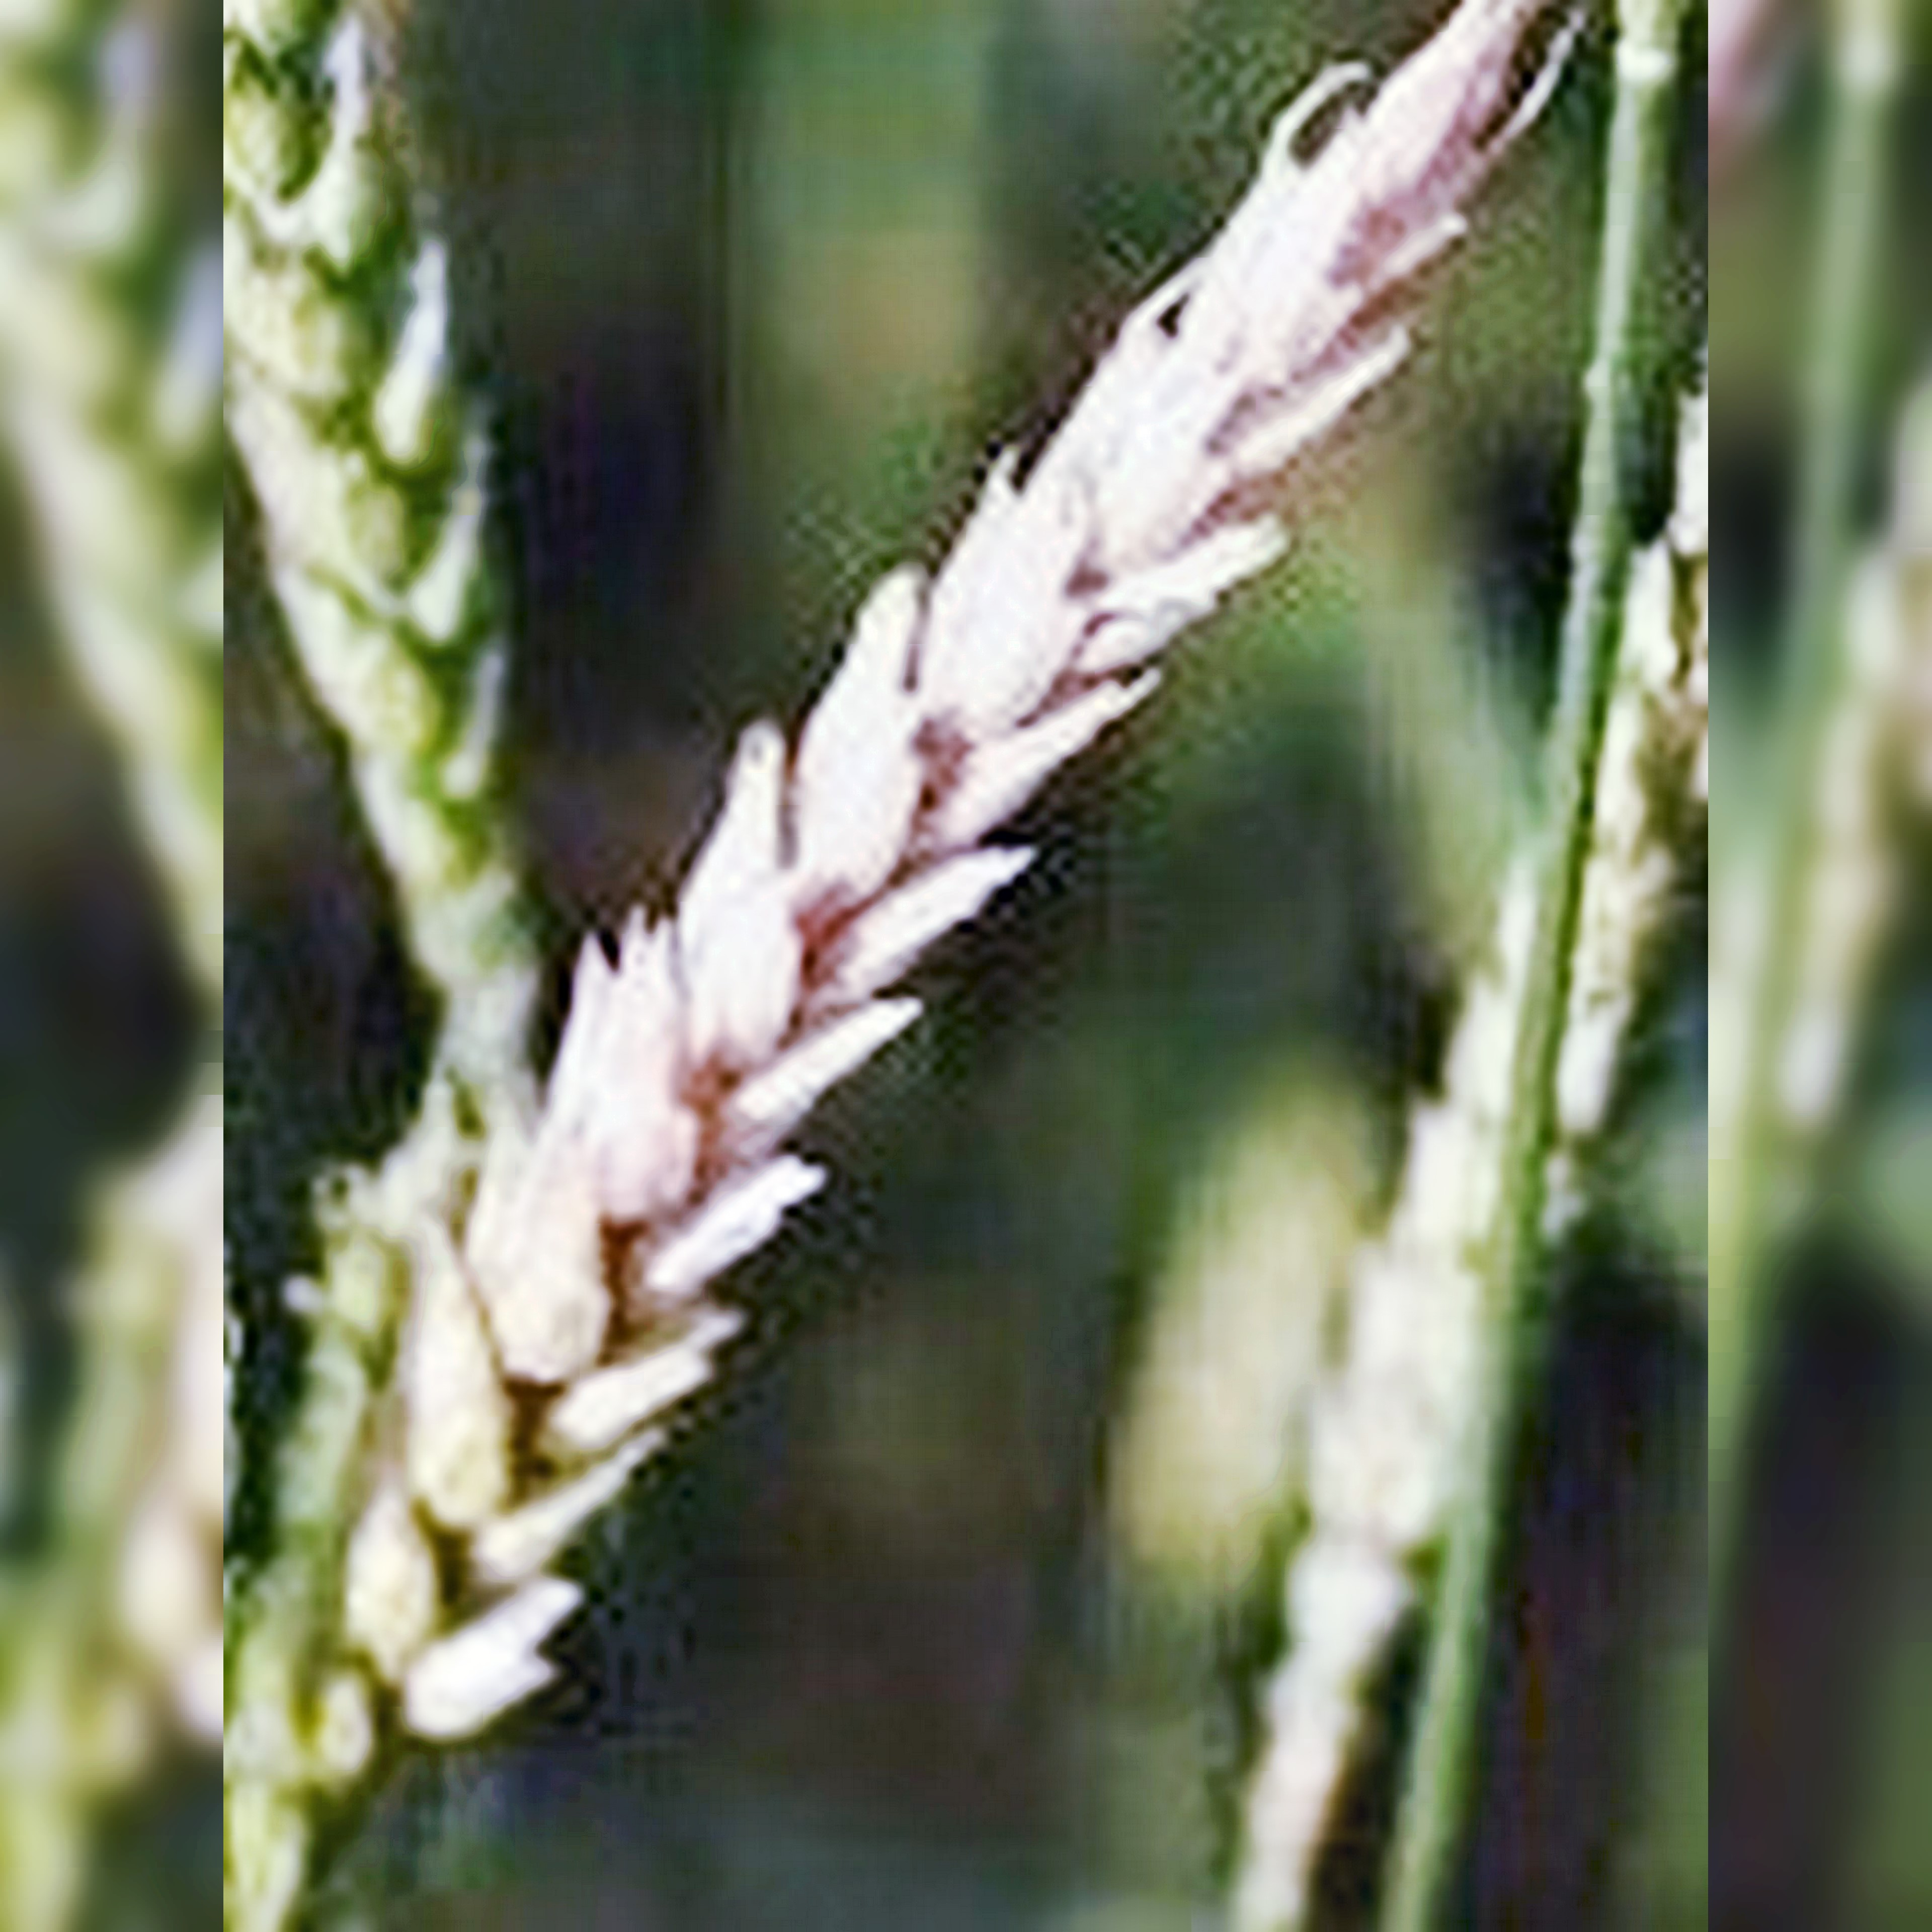Wheat scab: (379, 19, 1562, 1803)
